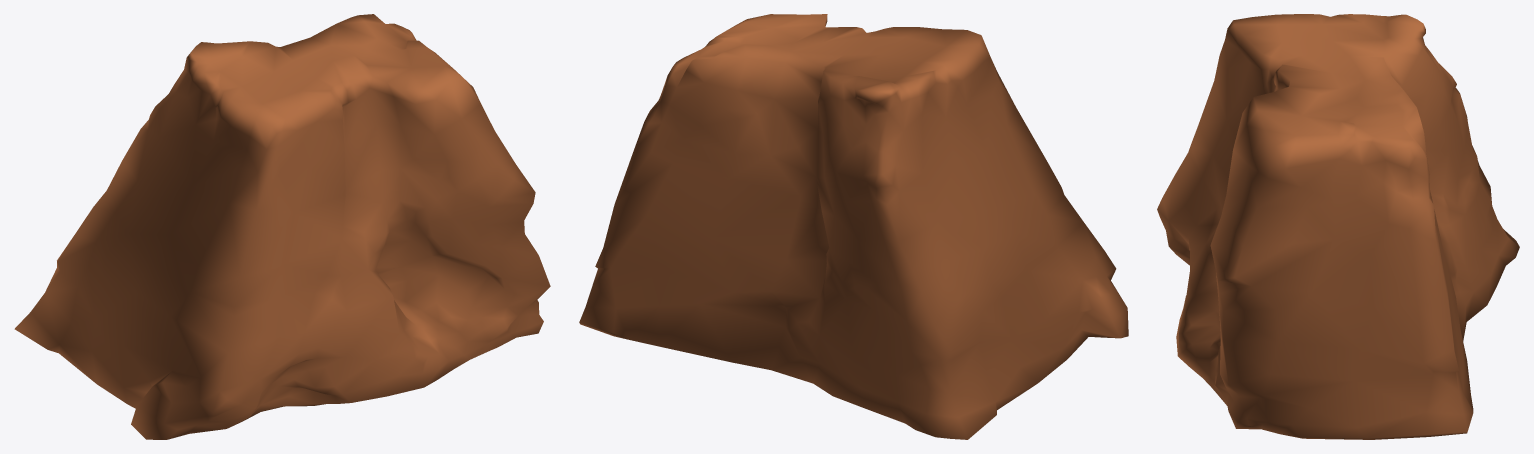
Rendered from MSH_Rocks_Cliff_03_c.FBX.
The picture shows the model from 3 angles, left to right: view 1: azimuth 30°, elevation 25°; view 2: azimuth 150°, elevation 25°; view 3: azimuth 270°, elevation 25°; orthographic projection.
Visible parts, largest first — view 1: MESH_LOD0; view 2: MESH_LOD0; view 3: MESH_LOD0.
Boxes of the visible parts, x1,y1,x2,y2 form: MESH_LOD0: [14, 14, 550, 439]; MESH_LOD0: [579, 14, 1128, 439]; MESH_LOD0: [1157, 14, 1519, 439].
Size of what is drawn, in the model's own units: 525 by 346 by 376.
